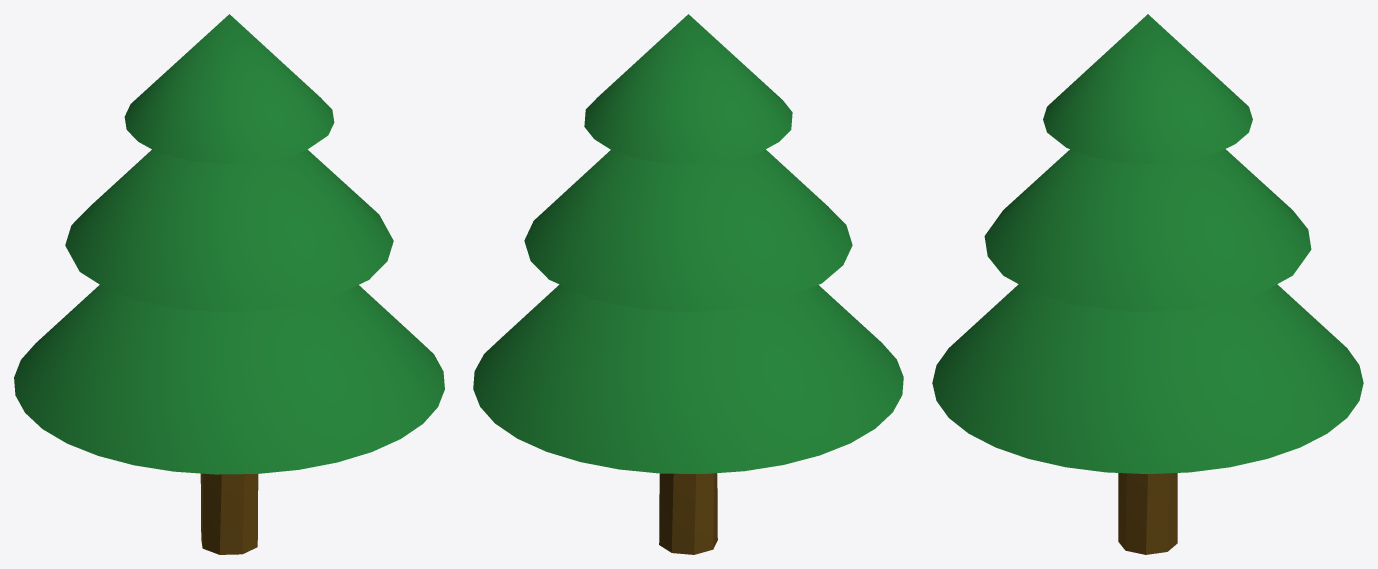
Rendered from tree2 (1).fbx.
3 views of the same model, side by side, from view 1: azimuth 30°, elevation 25°; view 2: azimuth 150°, elevation 25°; view 3: azimuth 270°, elevation 25° (orthographic).
Visible parts, largest first — view 1: dünyanınenbasitçamağacı; view 2: dünyanınenbasitçamağacı; view 3: dünyanınenbasitçamağacı.
Part boxes in pixels (x1=…): dünyanınenbasitçamağacı: x1=14, y1=14, x2=444, y2=554; dünyanınenbasitçamağacı: x1=473, y1=14, x2=903, y2=554; dünyanınenbasitçamağacı: x1=932, y1=14, x2=1363, y2=554.
Size of the model in its own units: 175 by 236 by 175.
